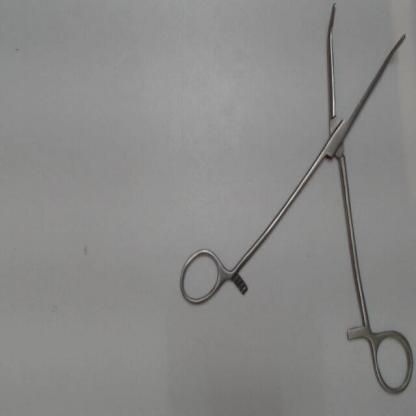Lahey Forceps: (171, 2, 415, 400)
